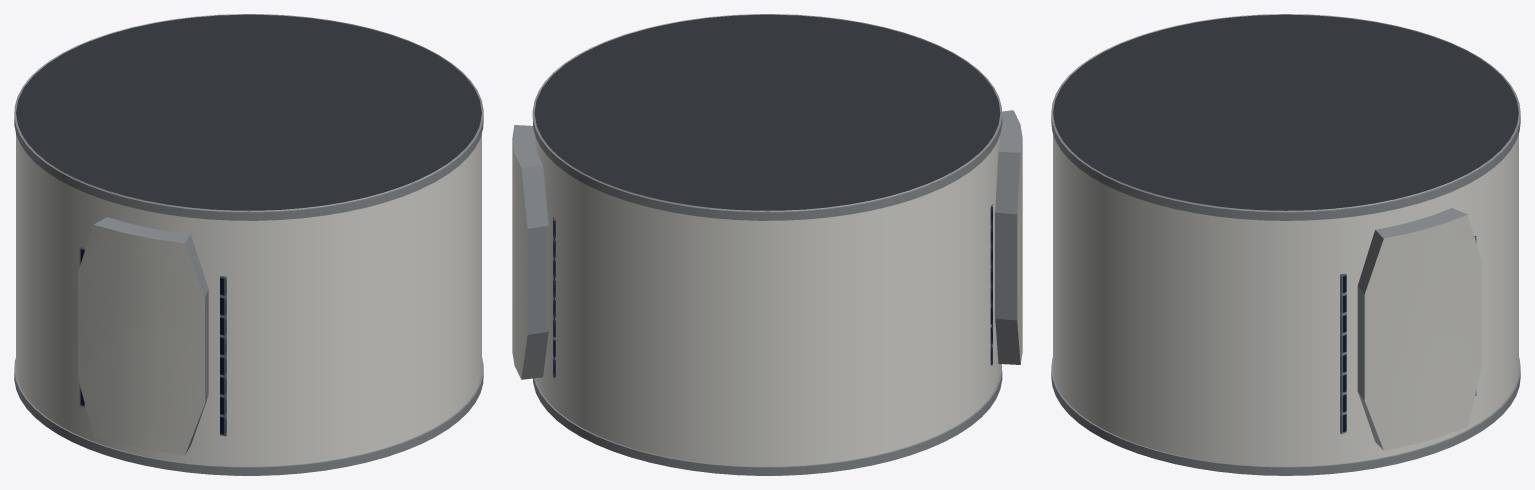
File: dragon1_trunk.glb
The picture shows the model from 3 angles, left to right: view 1: azimuth 30°, elevation 25°; view 2: azimuth 150°, elevation 25°; view 3: azimuth 270°, elevation 25°; orthographic projection.
Visible parts, largest first — view 1: body, slot_power; view 2: body, slot_power; view 3: body, slot_power.
Part boxes in pixels (x1,y1,x2,y2): body: (14,14,483,475); slot_power: (79,246,226,436); body: (512,14,1022,475); slot_power: (553,204,992,378); body: (1051,14,1520,475); slot_power: (1340,236,1476,433).
Bounding box in the file's own units: 2.61 × 1.58 × 2.52.
Materials: 11 (1 with a texture image).
